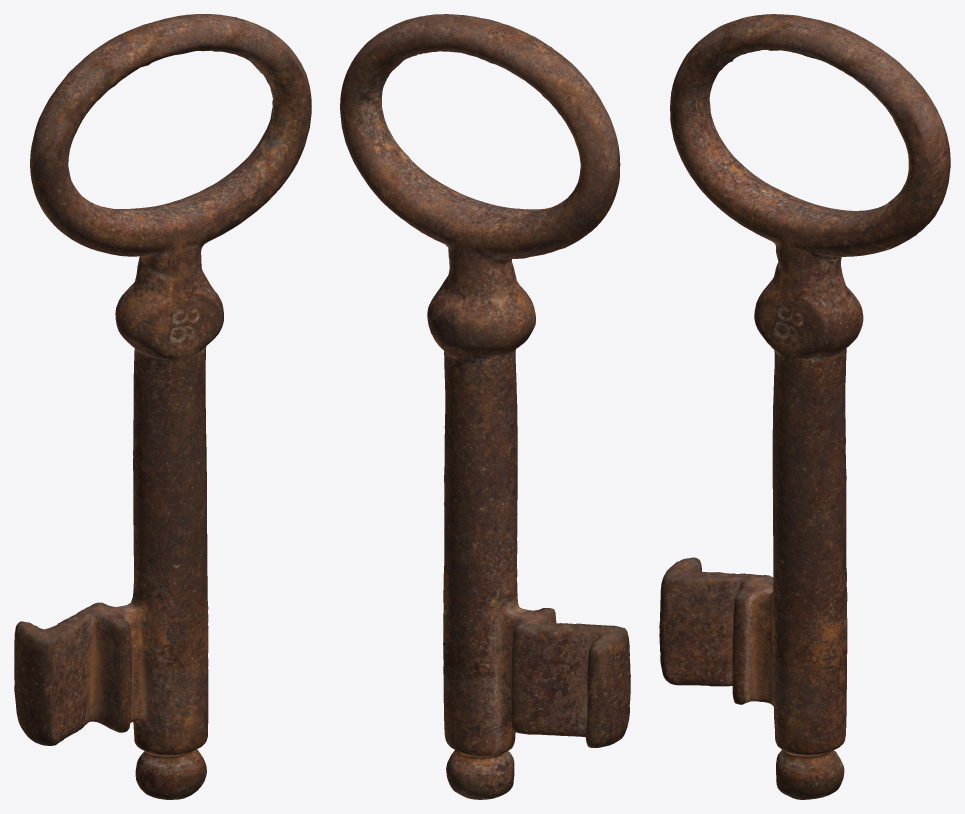
The picture shows the model from 3 angles, left to right: view 1: azimuth 30°, elevation 25°; view 2: azimuth 150°, elevation 25°; view 3: azimuth 330°, elevation 25°; orthographic projection.
Visible parts, largest first — view 1: k01_lo; view 2: k01_lo; view 3: k01_lo.
Boxes of the visible parts, x1,y1,x2,y2 form: k01_lo: [14, 14, 311, 799]; k01_lo: [340, 14, 630, 799]; k01_lo: [659, 14, 950, 799].
Bounding box in the file's own units: 1460 × 3839 × 403.
Materials: 1 (1 with a texture image).
